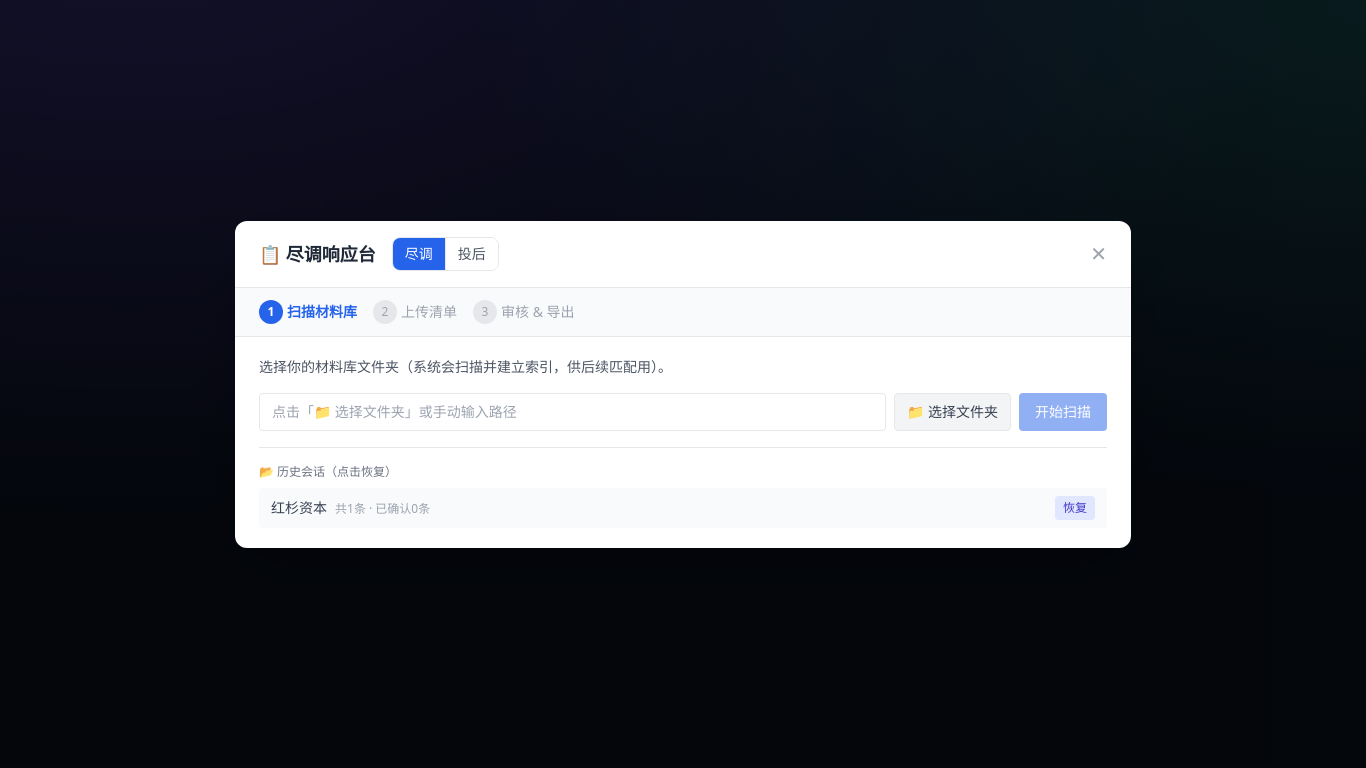
Test case: DueDiligenceWizard Step3 未确认行按钮 › 恢复会话后未确认行显示「缺」和「📂 替换」，点击替换展开输入行
The width and height of the screenshot is (1366, 768).
历史会话出现 → 点「恢复」进入 Step3
Click the button "恢复" at (1075, 508), box x1=1055 y1=496 x2=1095 y2=520
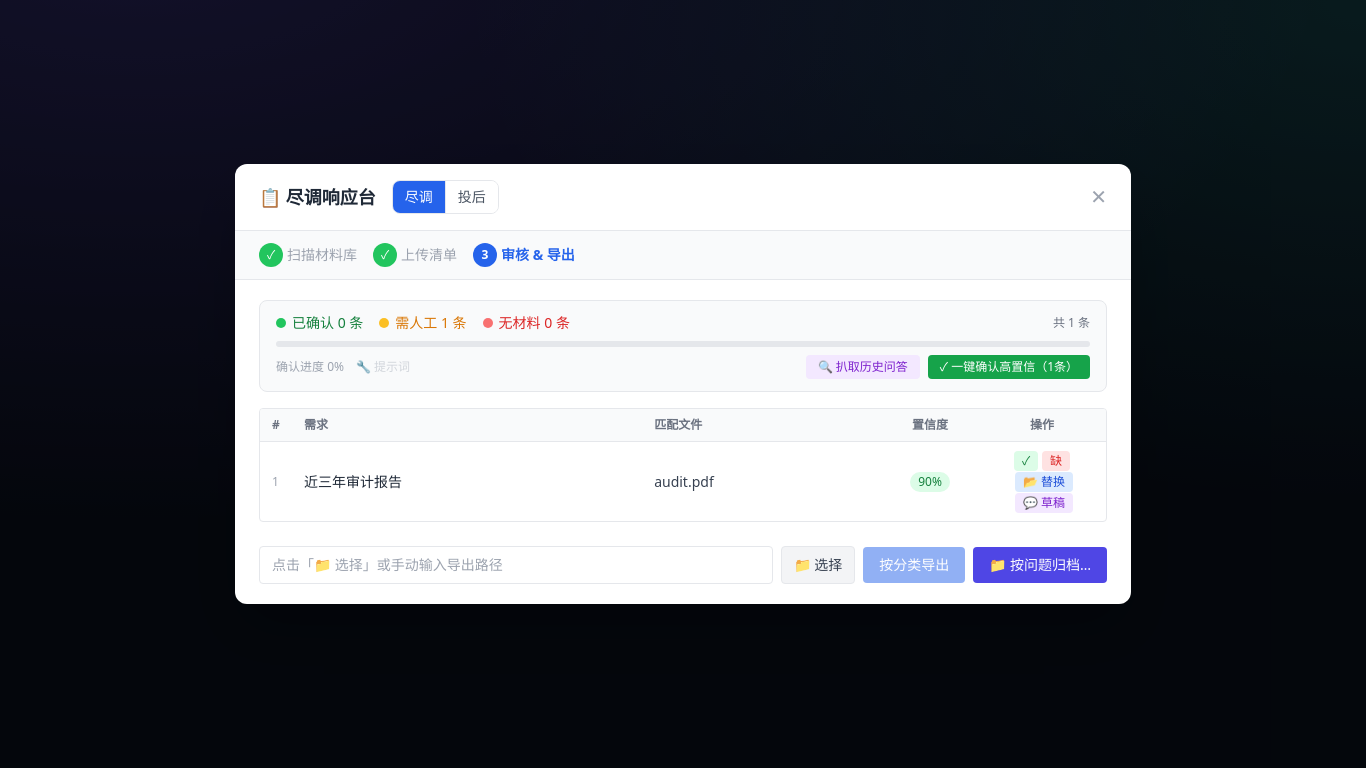
Result: the button "缺" is shown at x1=1042 y1=451 x2=1070 y2=471
Result: the button "📂 替换" is shown
Result: the button "✓" is shown at x1=1014 y1=451 x2=1038 y2=471
点「📂 替换」→ 展开内联输入行
Click the button "📂 替换" at (1044, 482), box x1=1015 y1=472 x2=1073 y2=492
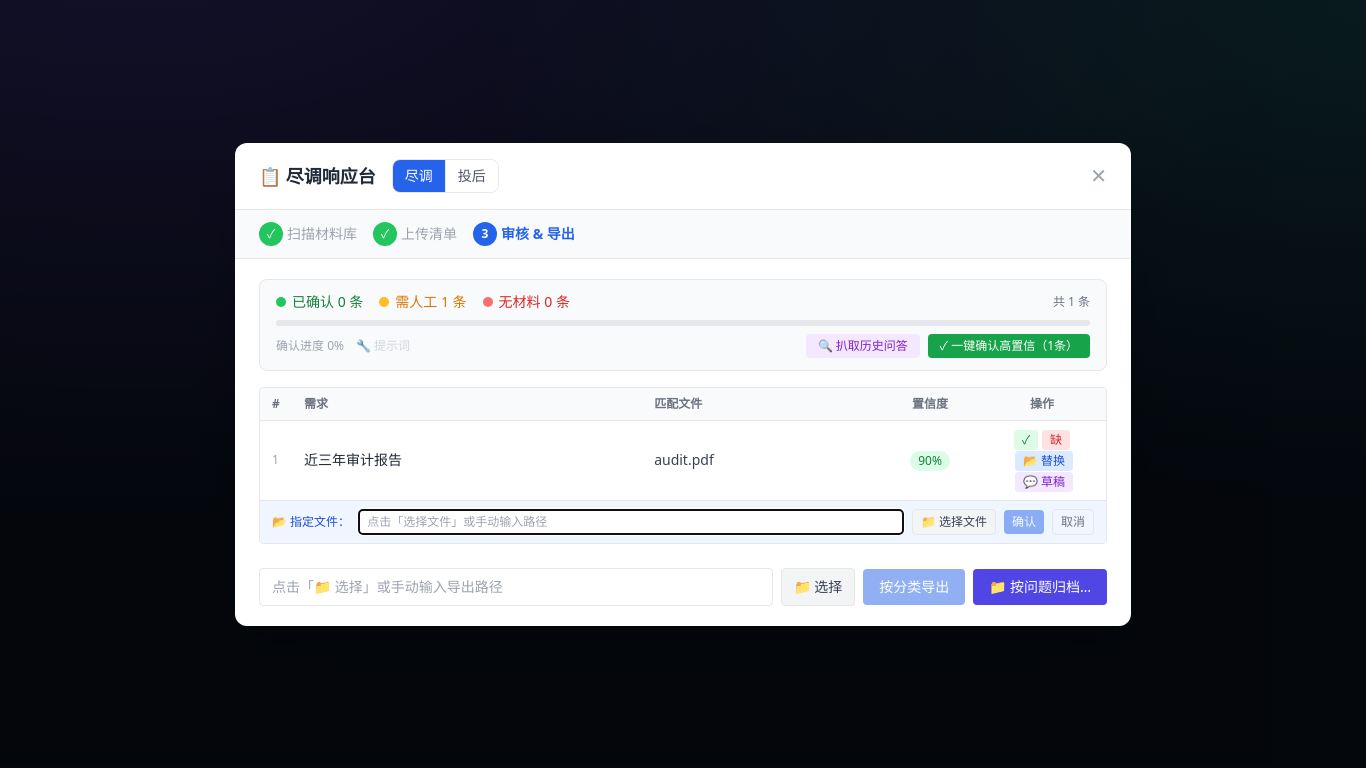
Result: the field with placeholder "点击「选择文件」或手动输入路径" is shown at x1=358 y1=508 x2=904 y2=534
